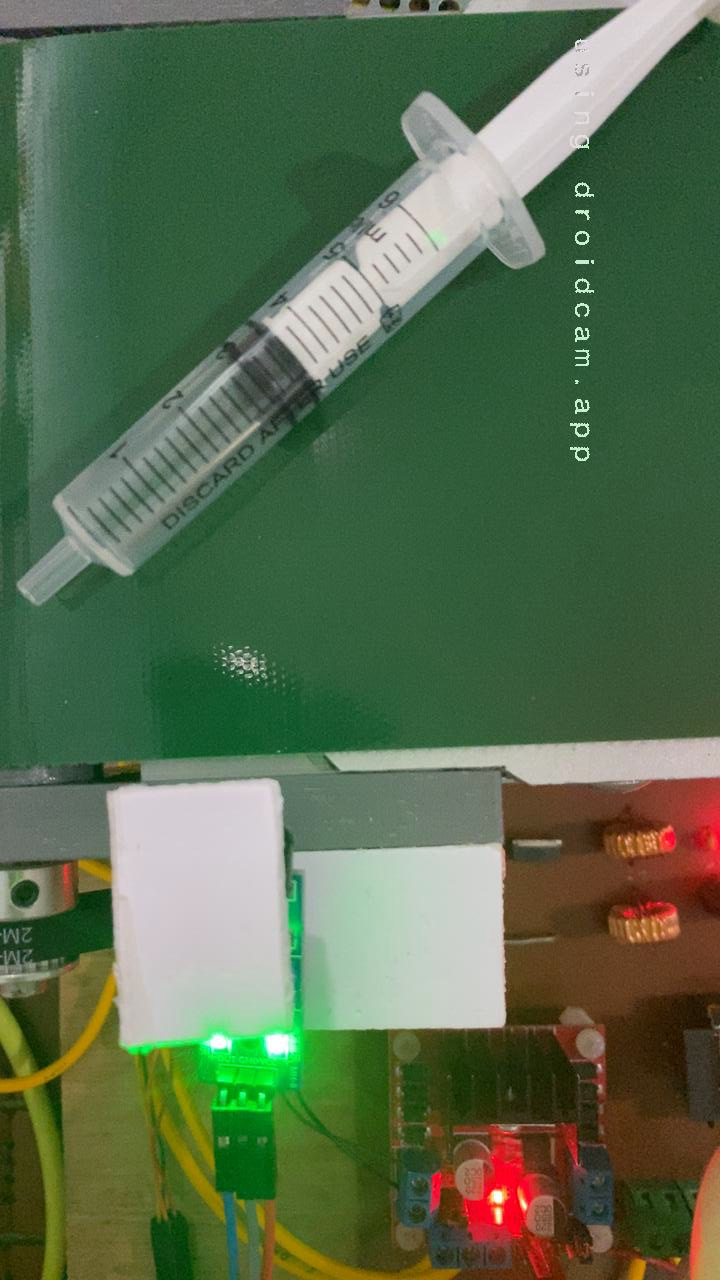syringe: (11, 16, 716, 609)
